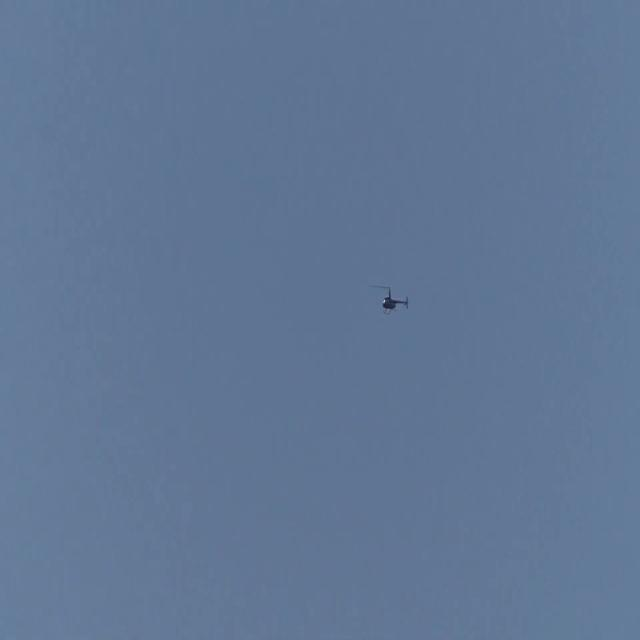CIV_HELO: (382, 286, 409, 316)
